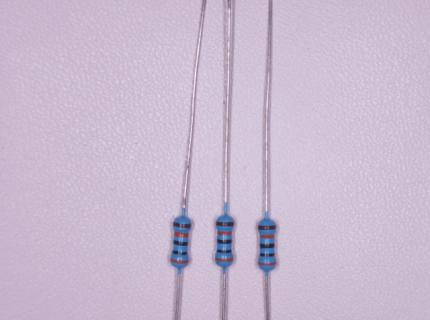Black band: (217, 238, 232, 244), (260, 243, 275, 249), (174, 240, 188, 246), (172, 250, 188, 255), (260, 253, 275, 257), (217, 249, 231, 253)
Brown band: (173, 221, 191, 228), (216, 221, 234, 227), (258, 225, 276, 231)
Orange band: (170, 258, 189, 264), (174, 231, 189, 238), (215, 257, 234, 262), (258, 261, 276, 266), (259, 234, 274, 239), (217, 231, 231, 235)
